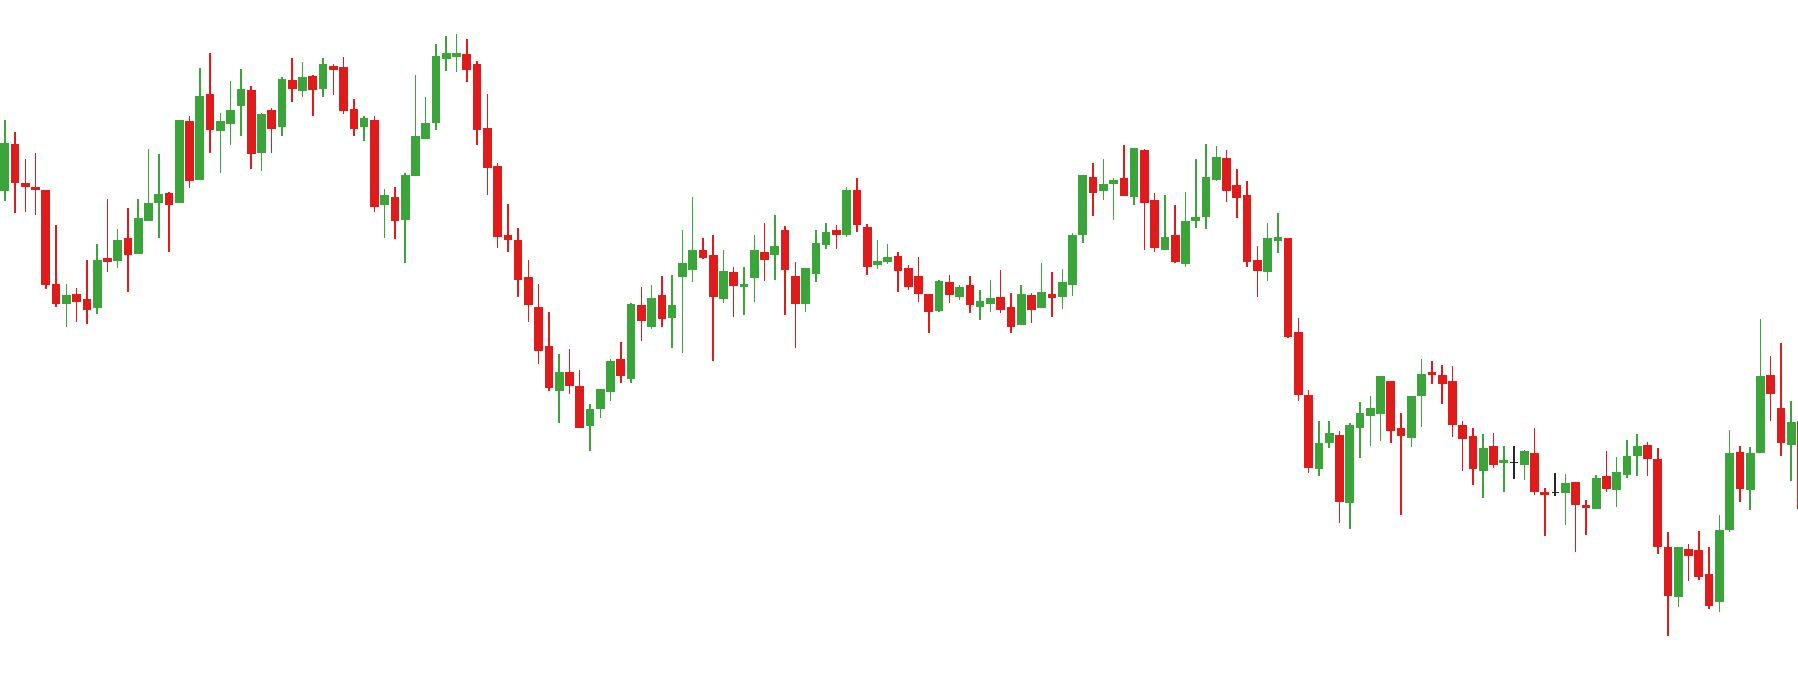buy: (1566, 468, 1684, 645), (730, 245, 812, 349)
sell: (330, 36, 470, 145), (1117, 140, 1232, 236)
